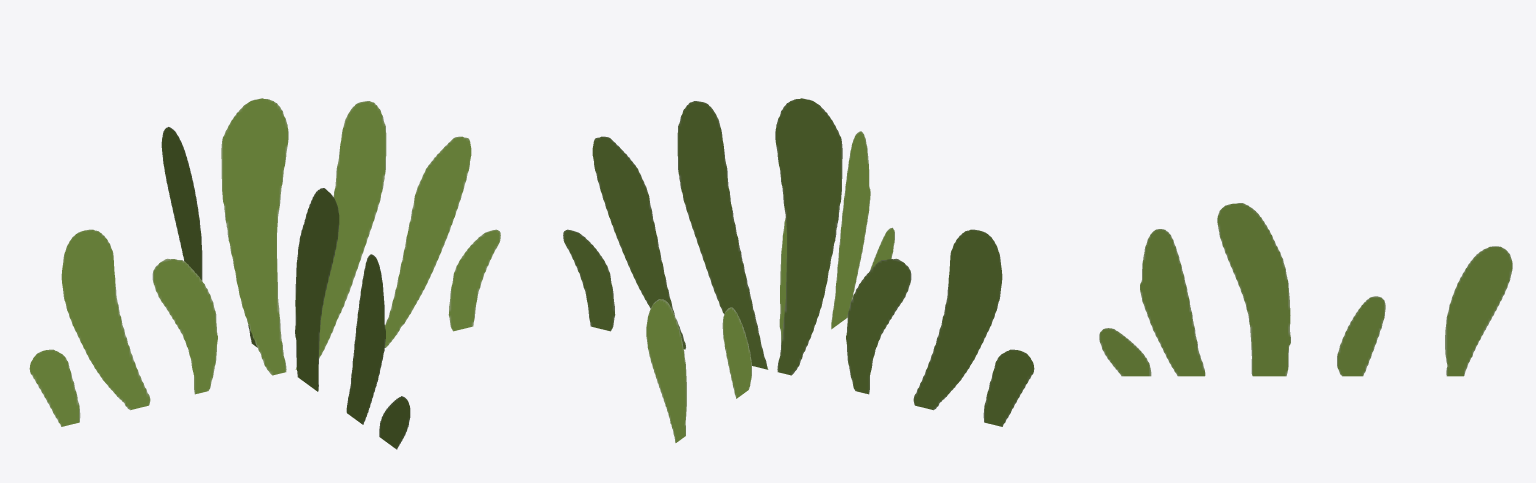
Rendered from Grass_04.fbx.
The picture shows the model from 3 angles, left to right: view 1: azimuth 30°, elevation 25°; view 2: azimuth 150°, elevation 25°; view 3: azimuth 270°, elevation 25°; orthographic projection. The views are drawn at different scales.
Visible parts, largest first — view 1: Plane.052; view 2: Plane.052; view 3: Plane.052.
Part boxes in pixels (x1,y1,x2,y2): Plane.052: (29,98,500,449); Plane.052: (563,98,1034,442); Plane.052: (1099,203,1512,376).
Bounding box in the file's own units: 35.37 × 20.23 × 32.45.
1 material, 1 textured.
